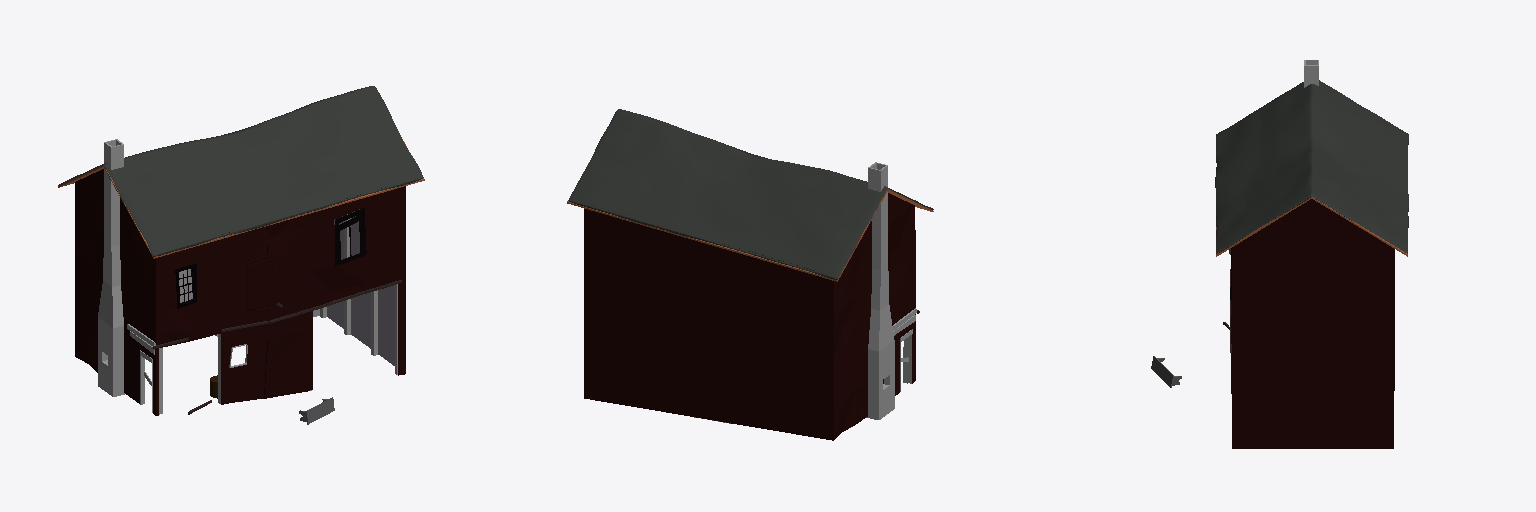
The model's file is Barn.obj.
3 views of the same model, side by side, from view 1: azimuth 30°, elevation 25°; view 2: azimuth 150°, elevation 25°; view 3: azimuth 270°, elevation 25° (orthographic).
Visible parts, largest first — view 1: Barn_Plane.004, Roof_Top_Plane.003, Chimeny_Chimney, Inside_Barn_Wall_Right_Plane.005, Roof_Bottom_Plane.029; view 2: Barn_Plane.004, Roof_Top_Plane.003, Chimeny_Chimney, Roof_Bottom_Plane.029; view 3: Barn_Plane.004, Roof_Top_Plane.003.
Boxes of the visible parts, x1=… form: Barn_Plane.004: x1=75, y1=169, x2=405, y2=415; Roof_Top_Plane.003: x1=58, y1=86, x2=423, y2=256; Chimeny_Chimney: x1=98, y1=139, x2=124, y2=396; Inside_Barn_Wall_Right_Plane.005: x1=327, y1=209, x2=394, y2=365; Roof_Bottom_Plane.029: x1=58, y1=142, x2=424, y2=258; Barn_Plane.004: x1=584, y1=193, x2=915, y2=440; Roof_Top_Plane.003: x1=568, y1=109, x2=933, y2=279; Chimeny_Chimney: x1=866, y1=162, x2=894, y2=419; Roof_Bottom_Plane.029: x1=567, y1=163, x2=933, y2=281; Barn_Plane.004: x1=1231, y1=199, x2=1394, y2=448; Roof_Top_Plane.003: x1=1215, y1=80, x2=1408, y2=253.
Size of the model in its own units: 5.86 by 5.39 by 4.78.